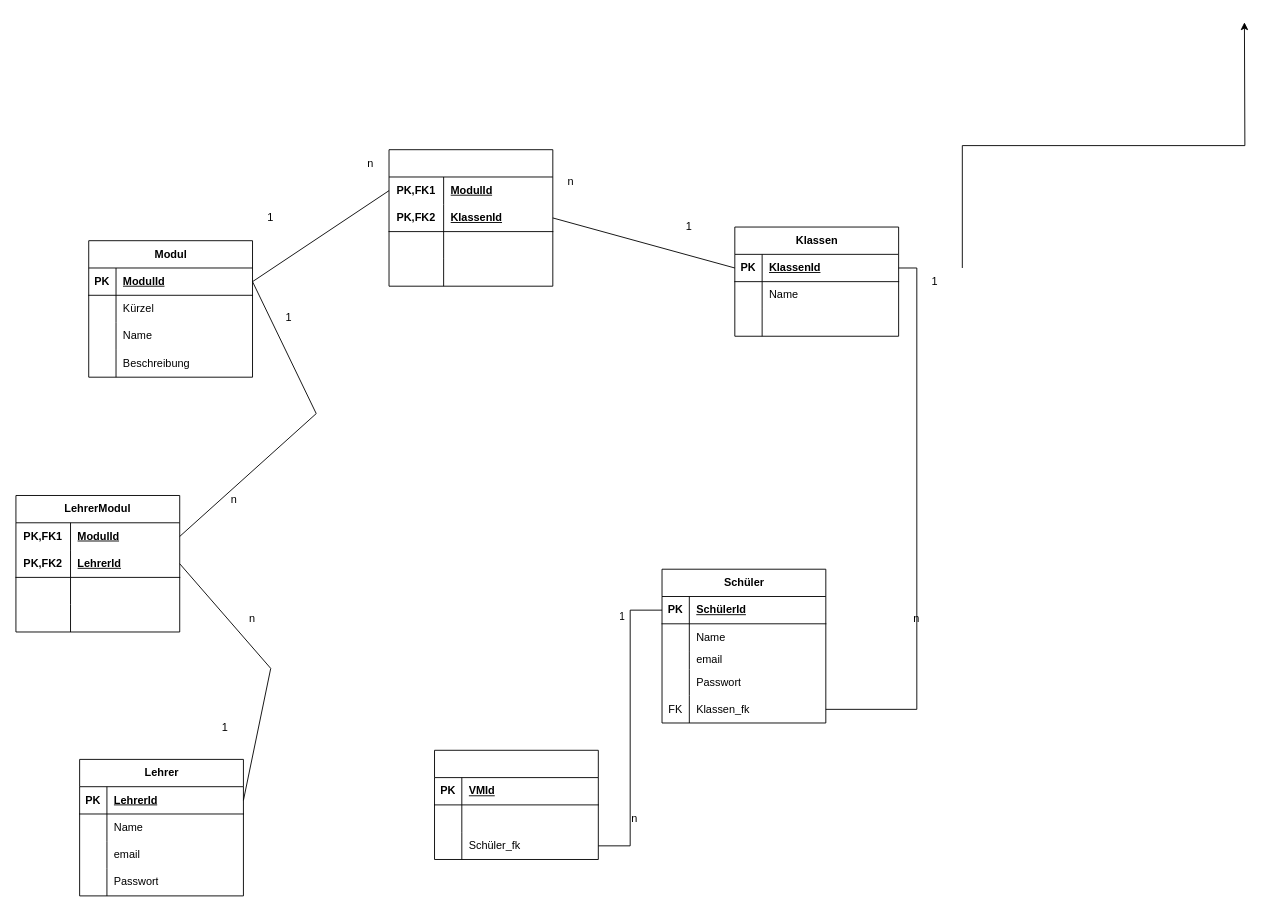
This 1269x912 diagram has some shape labels left out. The box of each missing label's shape, as (x1, y1, x2, y2) in pixels:
KlassenModul: (388, 149, 553, 286)
VM: (434, 749, 598, 859)
